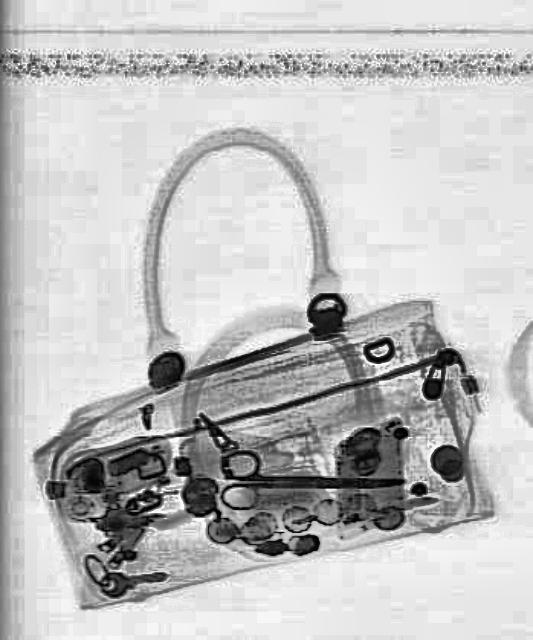Scissors: (219, 448, 403, 509)
